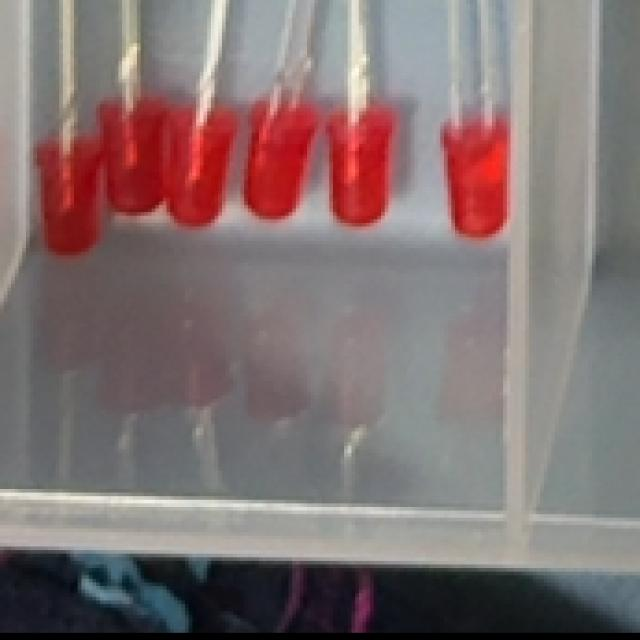RED_LED: (242, 0, 327, 227), (443, 0, 518, 242), (166, 0, 237, 230), (332, 0, 400, 237), (41, 0, 99, 250), (96, 0, 162, 219)
